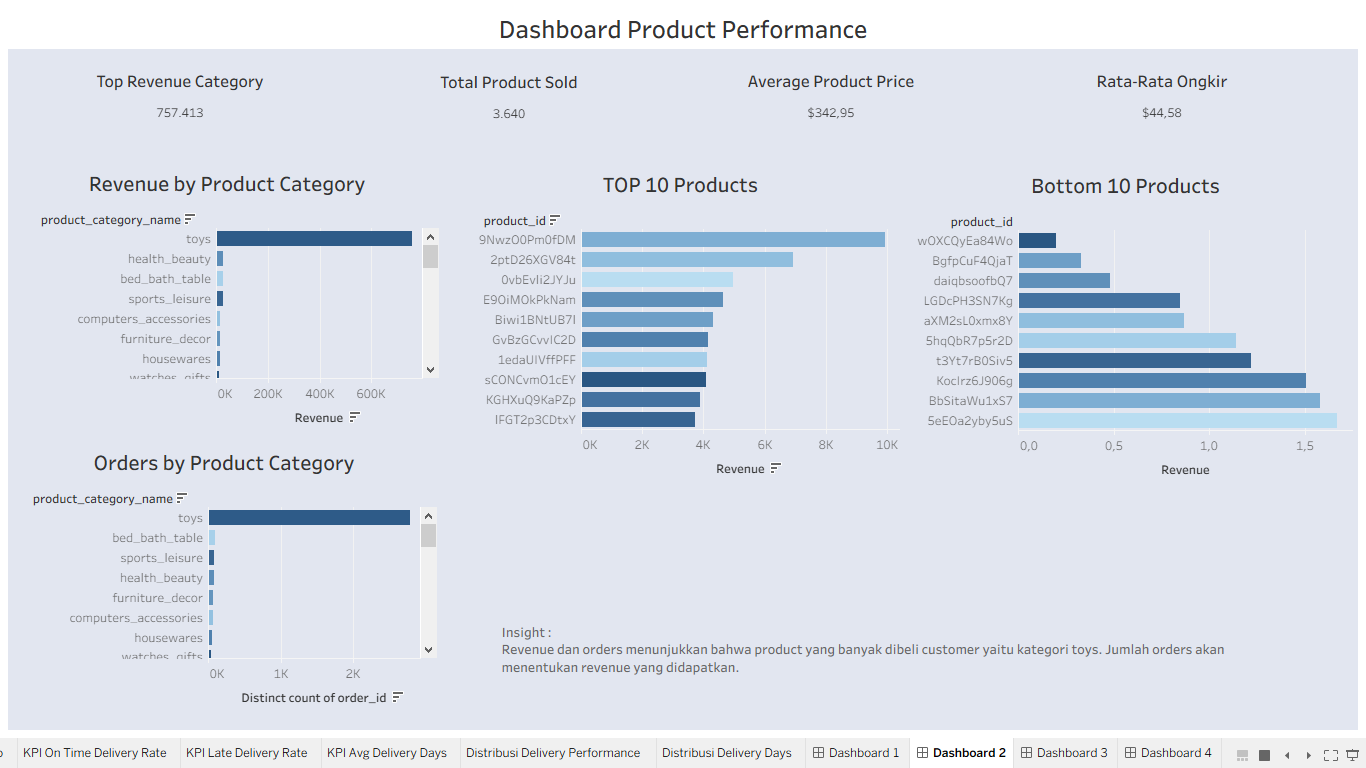

Layout of this report page (visuals, bound fields, positions):
{"tool":"tableau","page":{"name":"Dashboard 2","canvas":[1000,1000],"units":"permille","ordinal":1},"visuals":[{"type":"title","box":[5.9,10.8,988.3,55.6]},{"type":"worksheet","title":"Top Revenue Category","mark":"Automatic","box":[53.7,89.5,186.2,136.8]},{"type":"worksheet","title":"KPI Average Product Price","mark":"Automatic","box":[535.9,89.5,185.3,108.1]},{"type":"worksheet","title":"KPI Avg Shipping Cost","mark":"Automatic","box":[768,89.5,196.5,104.7]},{"type":"worksheet","title":"KPI Total Product Sold","mark":"Automatic","box":[310.8,91.2,148.1,125]},{"type":"worksheet","title":"Revenue by Product Category","mark":"Automatic","rows":["product_category_name"],"cols":["Revenue"],"box":[23.4,223,297.8,363.2]},{"type":"worksheet","title":"TOP 10 Products","mark":"Automatic","rows":["product_id"],"cols":["Revenue"],"box":[337.7,224.7,321.2,582.8]},{"type":"worksheet","title":"Bottom 10 Products","mark":"Automatic","rows":["product_id"],"cols":["Revenue"],"box":[657.1,226.3,333.3,564.2]},{"type":"worksheet","title":"Orders by Product Category","mark":"Automatic","rows":["product_category_name"],"cols":["order_id"],"box":[20.8,601.4,299.6,364.9]},{"type":"text","box":[365.4,822.6,579.2,114.9]}]}

Visuals, with their boxes on the dashboard's canvas, which has no fixed pixel size, in thousandths of its width and height (x1, y1, x2, y2). These are canvas units, not pixel positions in the 1366x768 screenshot, which may show the page scaled, cropped or inside an application window:
title: l=6, t=11, r=994, b=66
"Top Revenue Category" worksheet: l=54, t=90, r=240, b=226
"KPI Average Product Price" worksheet: l=536, t=90, r=721, b=198
"KPI Avg Shipping Cost" worksheet: l=768, t=90, r=964, b=194
"KPI Total Product Sold" worksheet: l=311, t=91, r=459, b=216
"Revenue by Product Category" worksheet: l=23, t=223, r=321, b=586
"TOP 10 Products" worksheet: l=338, t=225, r=659, b=808
"Bottom 10 Products" worksheet: l=657, t=226, r=990, b=790
"Orders by Product Category" worksheet: l=21, t=601, r=320, b=966
text: l=365, t=823, r=945, b=938
